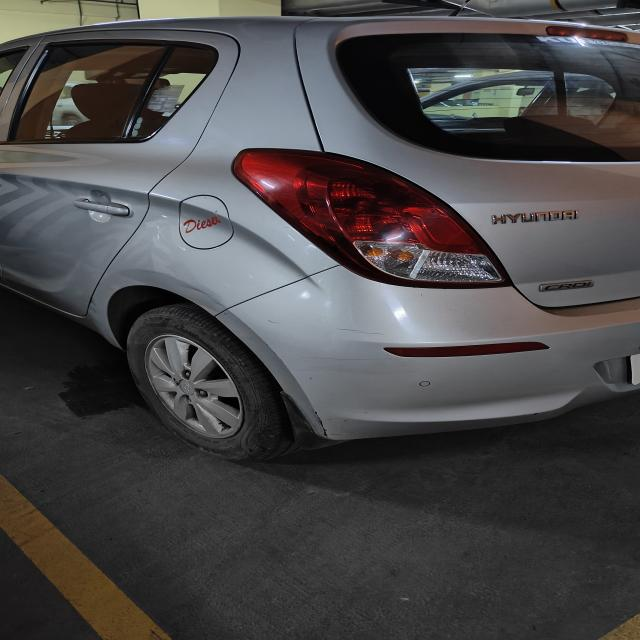scratch: (146, 269, 220, 316), (261, 318, 410, 339), (300, 403, 354, 438), (286, 352, 394, 366)
